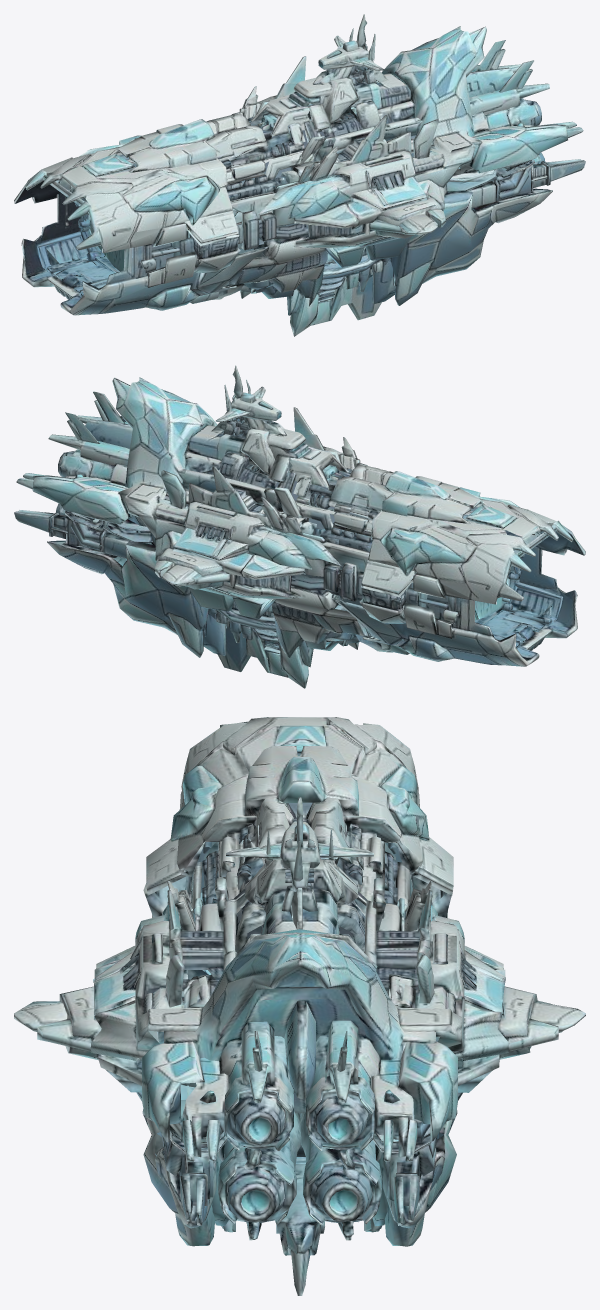
File: glacier.glb
The picture shows the model from 3 angles, top to bottom: view 1: azimuth 30°, elevation 25°; view 2: azimuth 150°, elevation 25°; view 3: azimuth 270°, elevation 25°; orthographic projection. The views are drawn at different scales.
Size of the model in its own units: 0.9561 by 0.5508 by 0.5825.
1 material, 1 textured.
